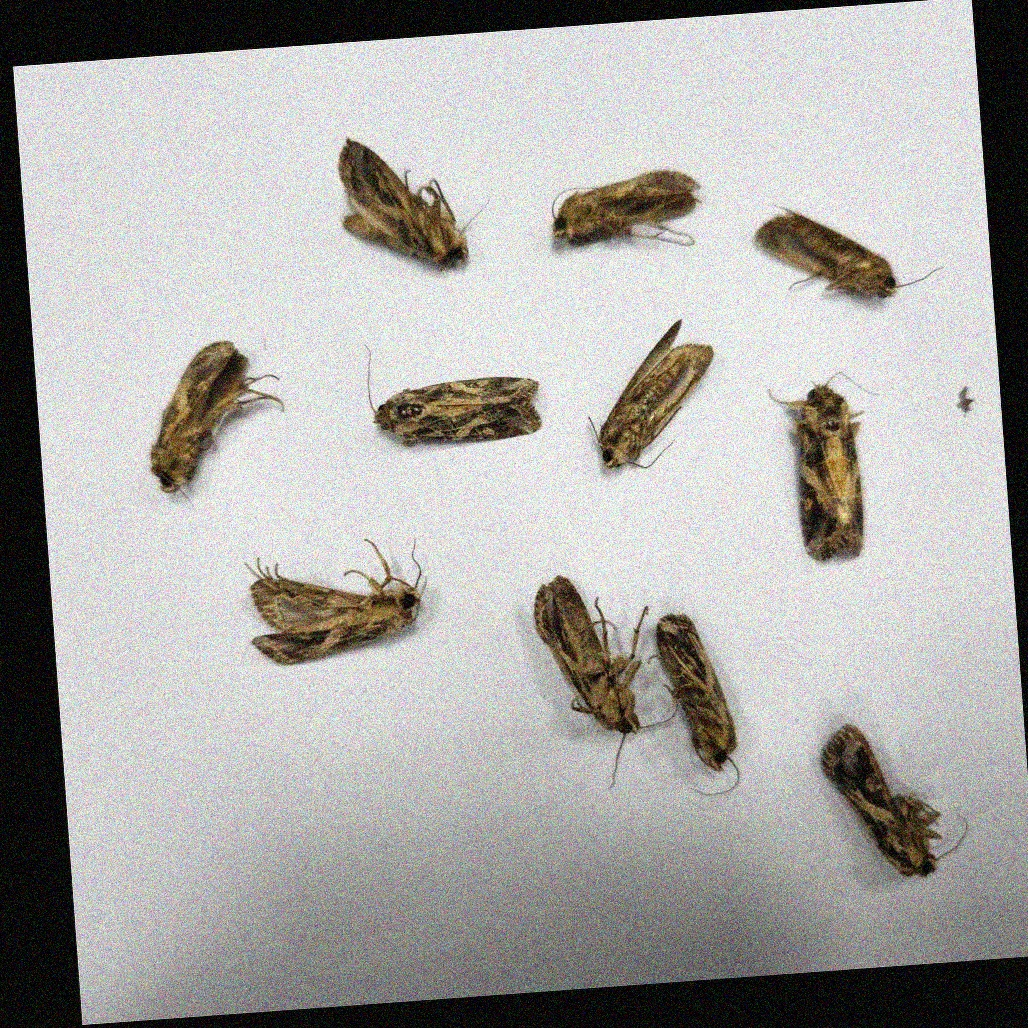Spodoptera litura: (535, 570, 677, 789), (147, 340, 285, 511), (821, 718, 966, 879), (244, 539, 429, 660), (339, 129, 491, 276), (772, 368, 886, 560), (753, 194, 941, 300), (584, 318, 716, 467), (366, 334, 541, 443), (649, 609, 733, 795), (549, 172, 702, 250)
